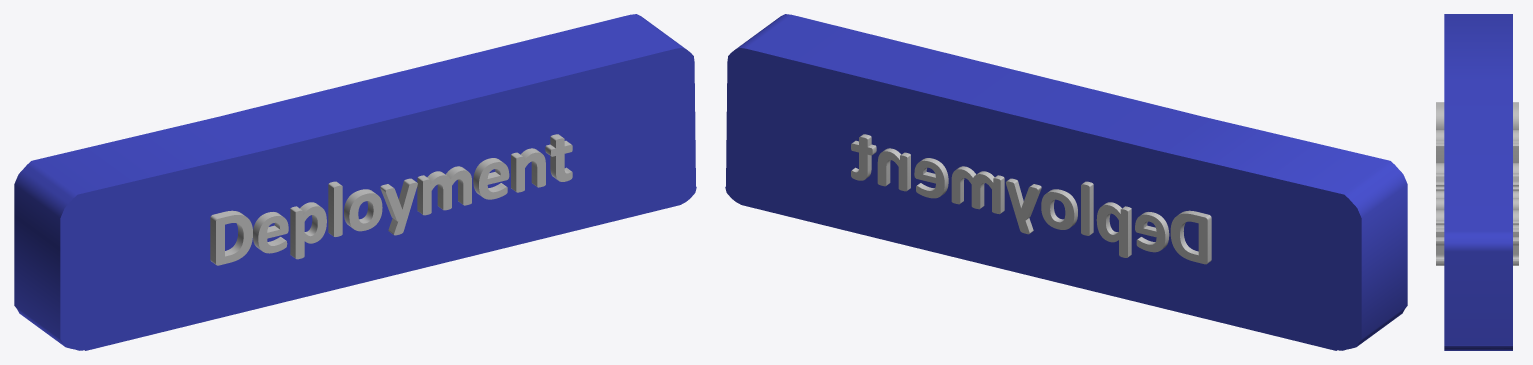
File: deploymodel.fbx
3 renders of one model, left to right at view 1: azimuth 30°, elevation 25°; view 2: azimuth 150°, elevation 25°; view 3: azimuth 270°, elevation 25°, orthographic. The views are drawn at different scales.
Visible parts, largest first — view 1: root, node_id92; view 2: root, node_id92; view 3: root, node_id92.
Part boxes in pixels (box(x1,y1,x2,y2)): root: box(14, 14, 696, 350); node_id92: box(210, 134, 572, 265); root: box(725, 14, 1407, 350); node_id92: box(851, 134, 1211, 264); root: box(1444, 14, 1512, 350); node_id92: box(1436, 102, 1518, 265).
Bounding box in the file's own units: 0.4177 × 0.0993 × 0.0632.
